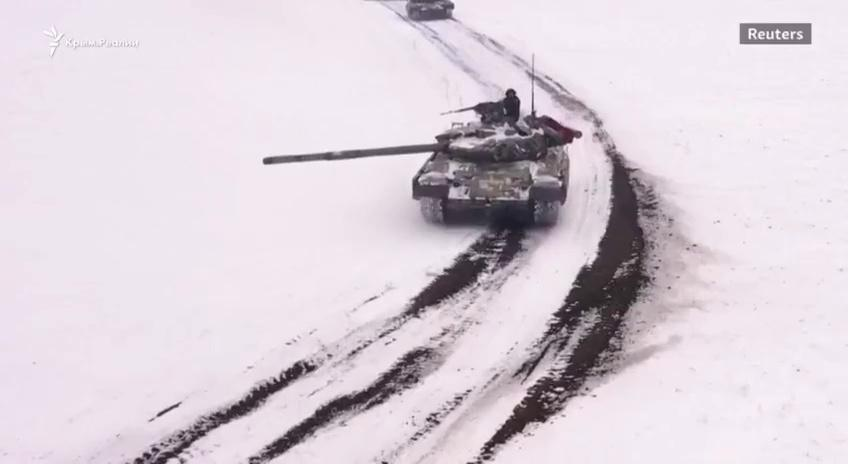person: (498, 87, 521, 121)
tank: (262, 88, 584, 228), (404, 0, 456, 26)
